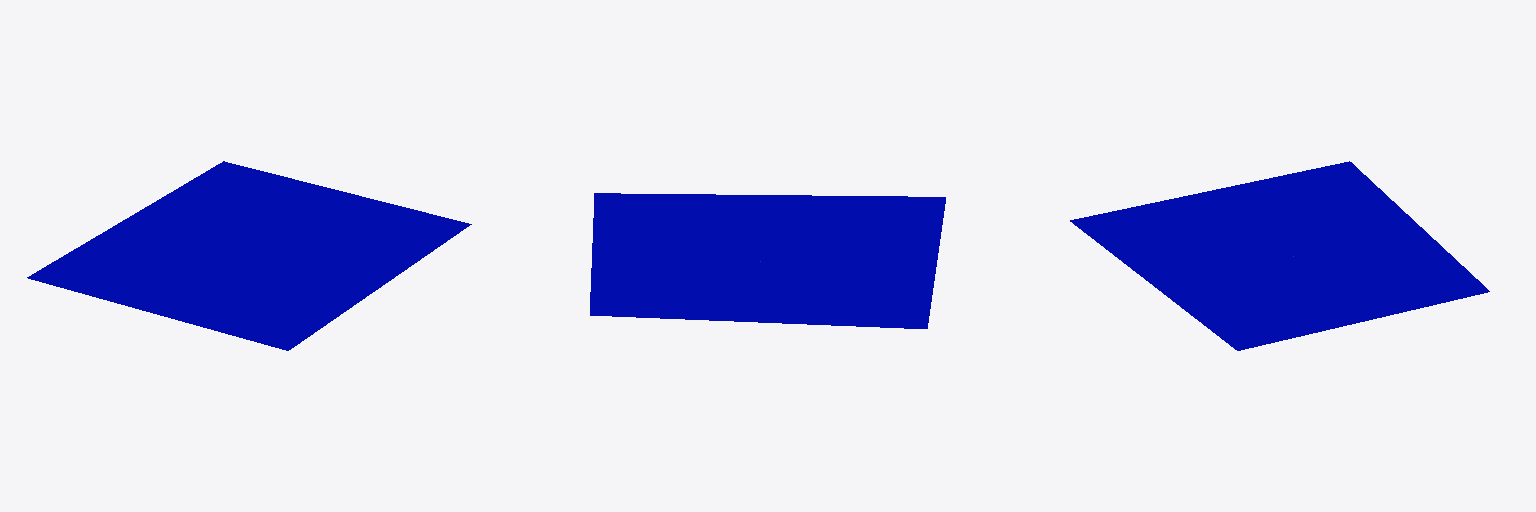
The model's file is casa_try.obj.
3 renders of one model, left to right at view 1: azimuth 30°, elevation 25°; view 2: azimuth 150°, elevation 25°; view 3: azimuth 270°, elevation 25°, orthographic.
Parts seen in each view (by area): view 1: Plano; view 2: Plano; view 3: Plano.
Boxes of the visible parts, box(x1,y1,x2,y2) form: Plano: box(27, 161, 471, 350); Plano: box(590, 193, 945, 328); Plano: box(1070, 161, 1489, 350).
Bounding box in the file's own units: 1600 × 2.64 × 1501.